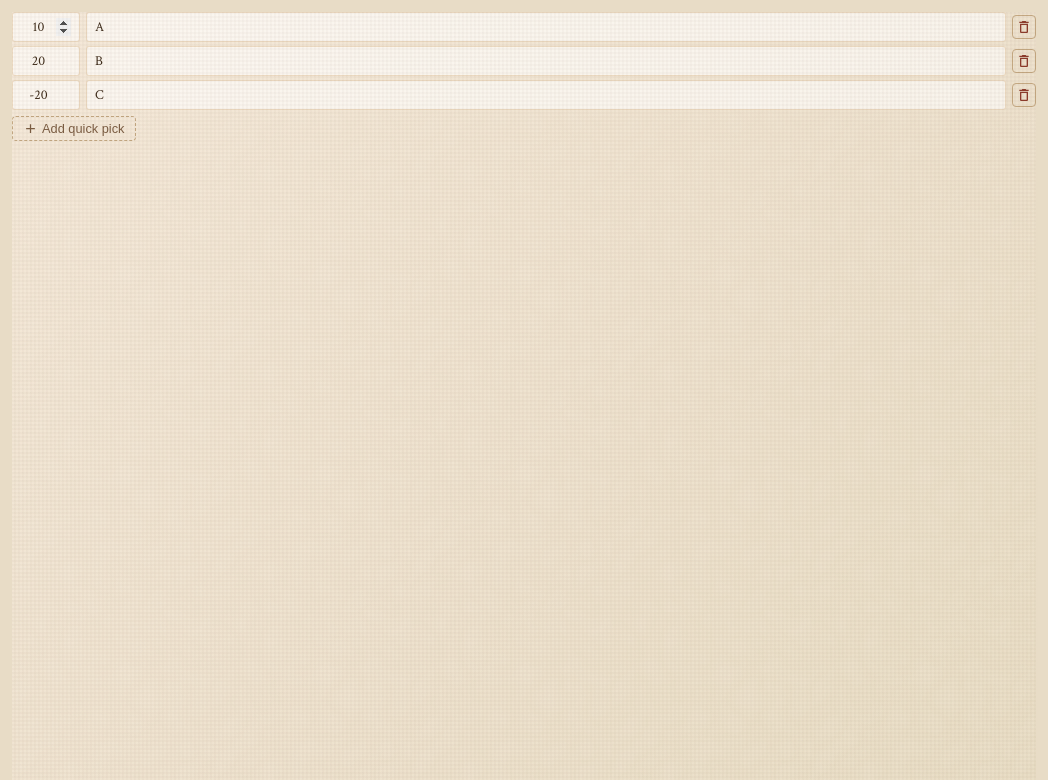
Scenario: ModifierPresetEditor › does not leak a stale draft onto the row that shifts into its index after a remove
The image size is (1048, 780).
Step 1. Clear the number field with test id "mpe-value-2" → (46, 95), box [12,80,80,110]
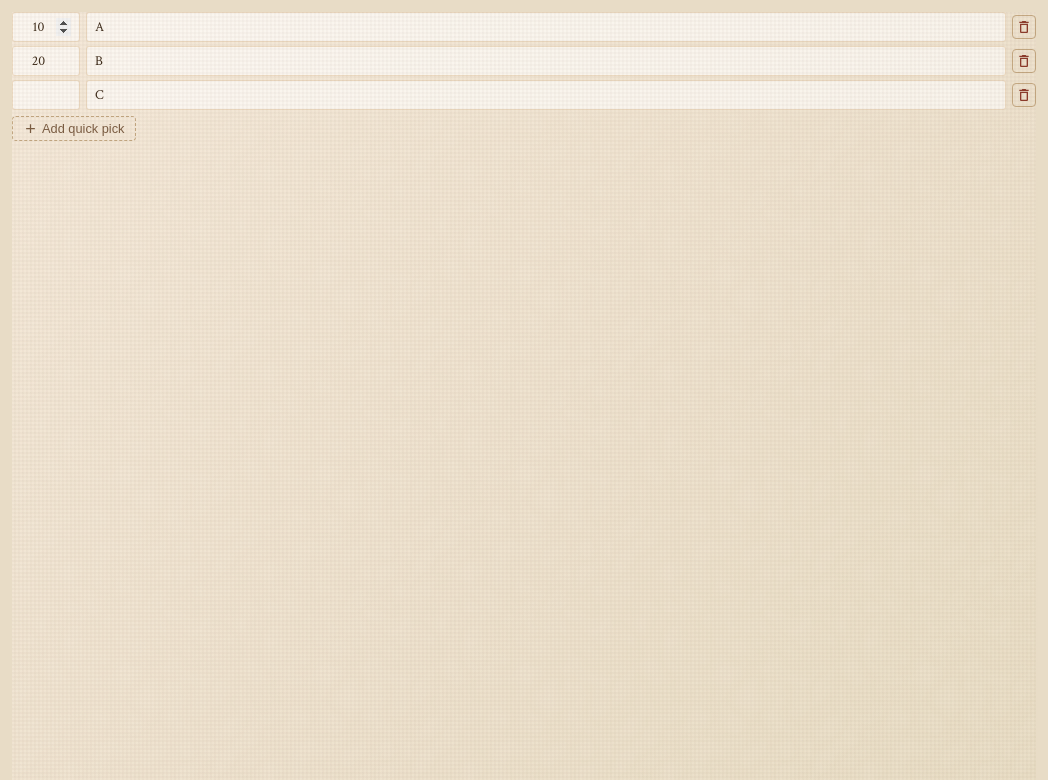
Step 2. Click the button with test id "mpe-remove-0" → (1024, 27), box [1012,15,1036,39]
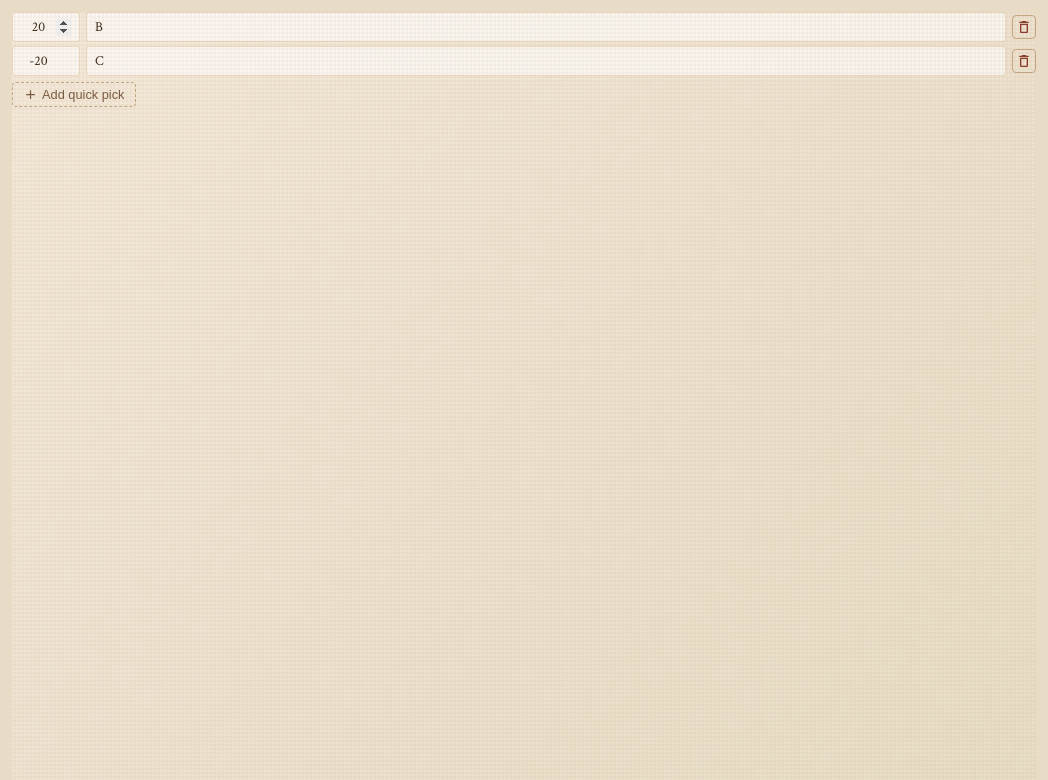
Expected: the number field with test id "mpe-value-1" holds "-20", [12,46,80,76]
